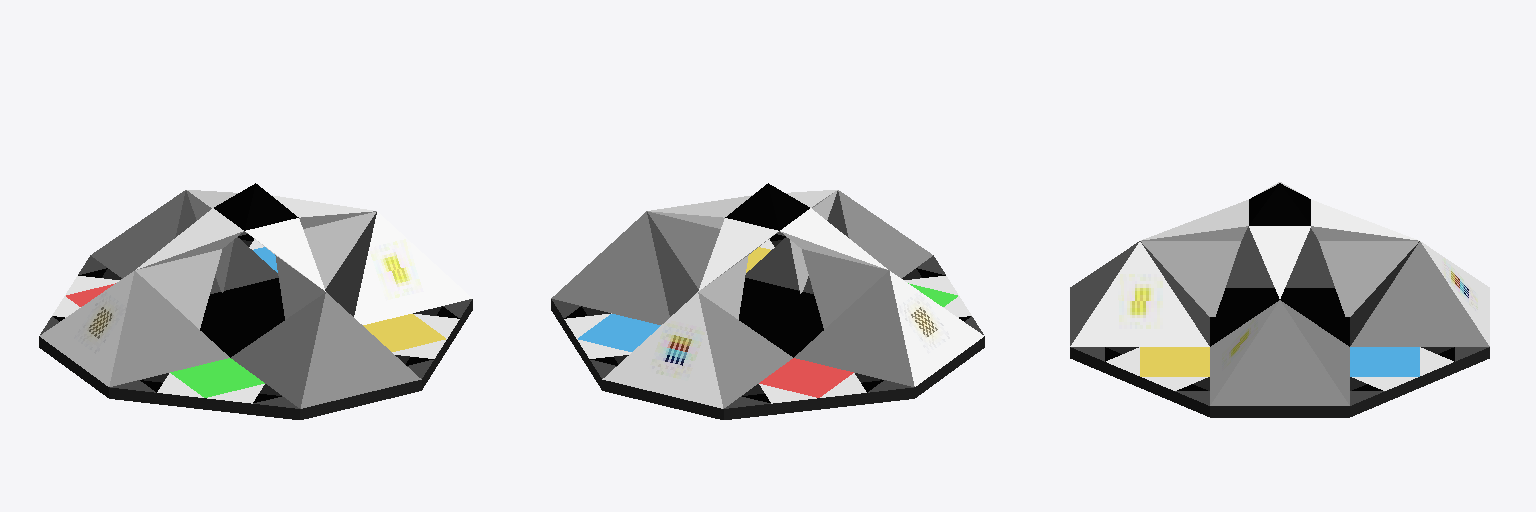
3 renders of one model, left to right at view 1: azimuth 30°, elevation 25°; view 2: azimuth 150°, elevation 25°; view 3: azimuth 270°, elevation 25°, orthographic.
Parts seen in each view (by area): view 1: Box002; view 2: Box002; view 3: Box002.
Boxes of the visible parts, x1=… form: Box002: x1=39, y1=183, x2=472, y2=419; Box002: x1=551, y1=183, x2=984, y2=419; Box002: x1=1070, y1=182, x2=1489, y2=417.
Bounding box in the file's own units: 100 × 38.26 × 100.
Materials: 16 (3 with a texture image).